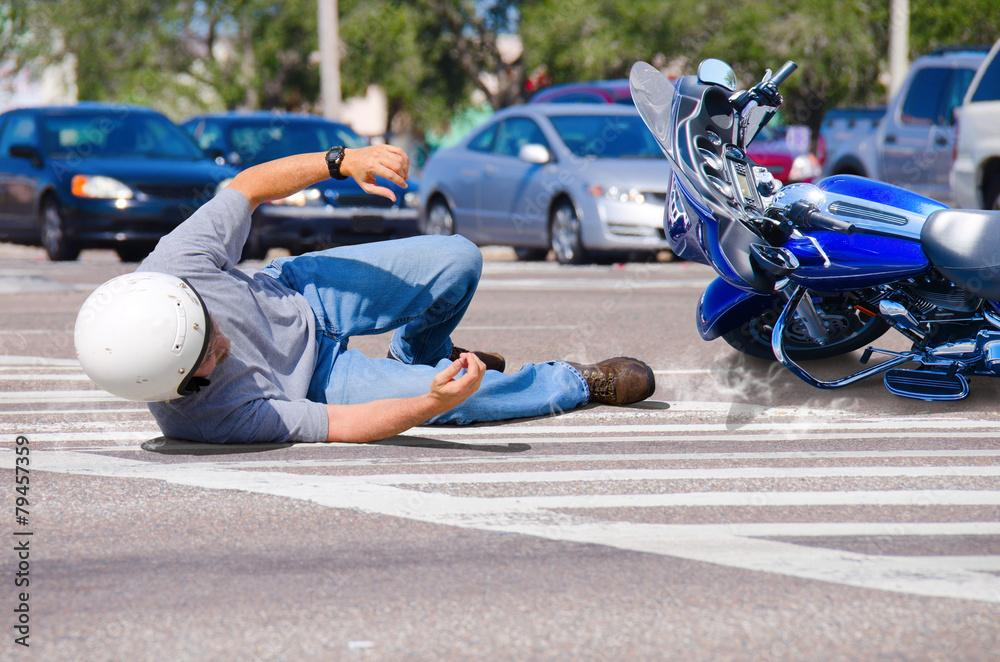helmet: (73, 270, 232, 404)
